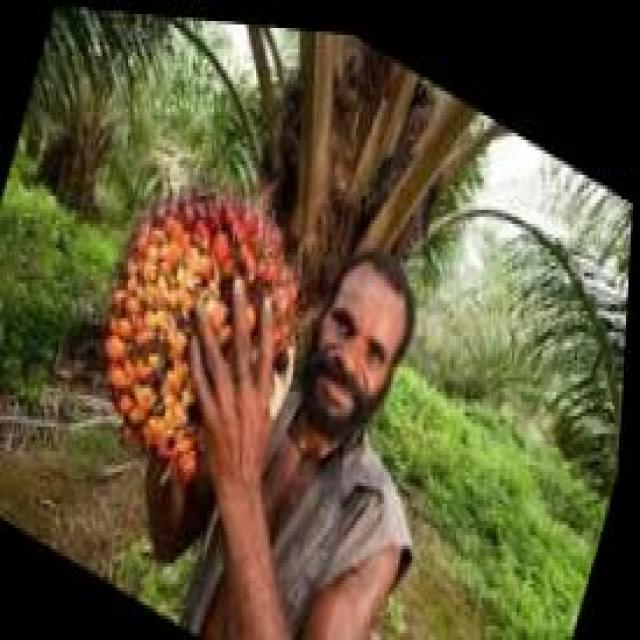Ripefruit: (79, 129, 333, 528)
